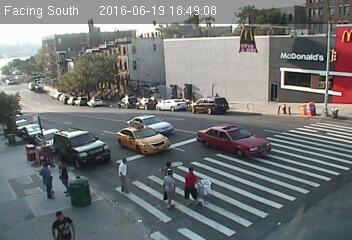neg: (303, 86, 327, 118), (158, 92, 181, 122), (112, 98, 132, 124), (224, 88, 242, 113), (275, 88, 292, 110), (53, 110, 68, 129)
pos: (154, 168, 184, 208), (177, 165, 207, 205), (29, 160, 58, 198), (50, 156, 78, 195), (110, 155, 137, 191), (46, 207, 71, 239)
